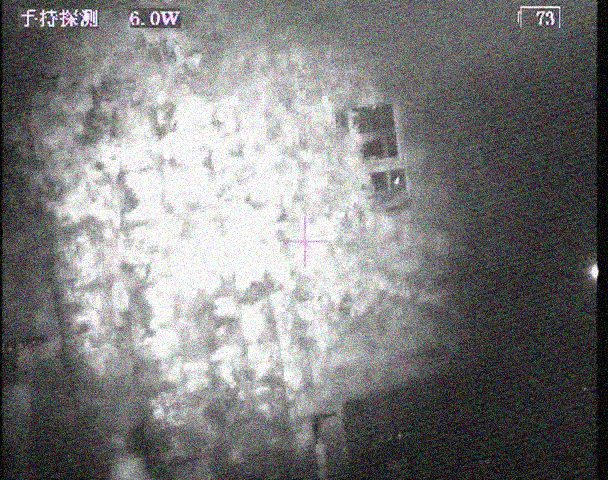my: (392, 176, 400, 186)
